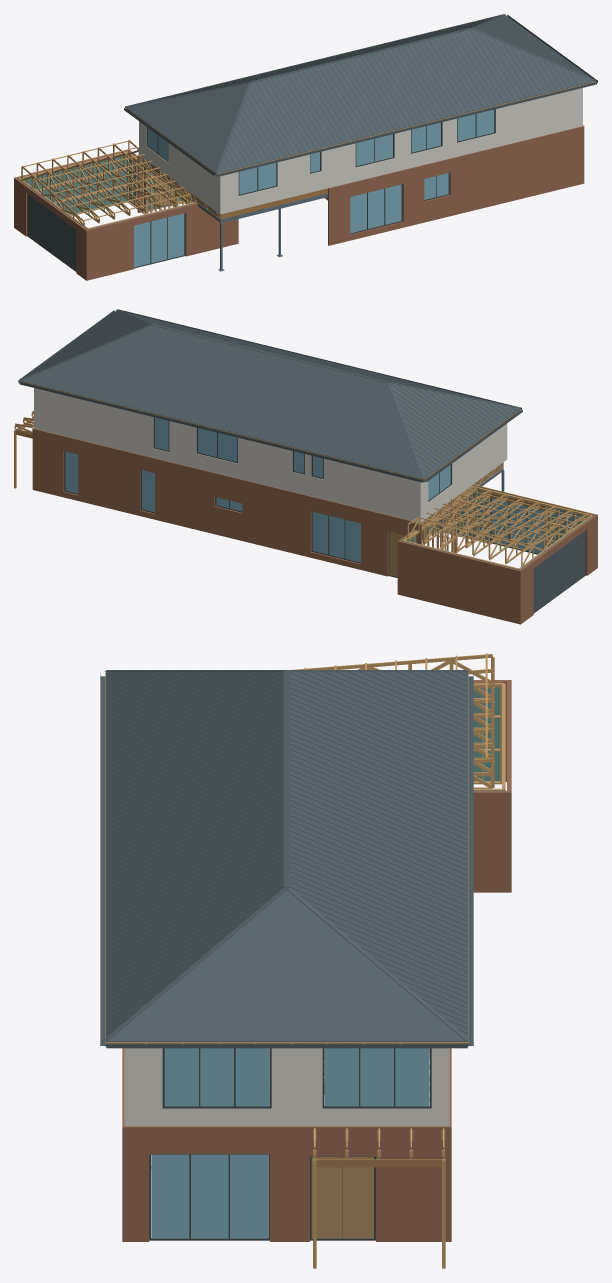
Rendered from building.glb.
3 renders of one model, top to bottom at view 1: azimuth 30°, elevation 25°; view 2: azimuth 150°, elevation 25°; view 3: azimuth 270°, elevation 25°, orthographic. The views are drawn at different scales.
Parts seen in each view (by area): view 1: 20 Main roof covering cut, 23 Ground brick veneer cut, 24 Upper foam render cut, 26 Windows and doors cut.001, 20 Main roof covering, 07 Garage roof, 23 Ground brick veneer, 24 Upper foam render, 25 Wall wrap, 02 Ground floor walls, 26 Windows and doors.003, 22 Fascia and gutters cut (+6 smaller); view 2: 20 Main roof covering, 23 Ground brick veneer, 24 Upper foam render, 07 Garage roof, 26 Windows and doors.002, 20 Main roof covering cut, 22 Fascia and gutters, 26 Windows and doors.003, 02 Ground floor walls, 26 Windows and doors, 26 Windows and doors cut.001, 25 Wall wrap cut (+3 smaller); view 3: 20 Main roof covering cut, 20 Main roof covering, 23 Ground brick veneer, 24 Upper foam render cut, 26 Windows and doors cut.001, 26 Windows and doors.002, 22 Fascia and gutters cut, 26 Windows and doors.001, 07 Garage roof, 22 Fascia and gutters, 26 Windows and doors, 26 Windows and doors cut (+5 smaller).
Part boxes in pixels (x1,y1,x2,y2): 20 Main roof covering cut: [216, 15, 595, 173]; 23 Ground brick veneer cut: [85, 126, 584, 280]; 24 Upper foam render cut: [219, 88, 582, 214]; 26 Windows and doors cut.001: [134, 109, 494, 267]; 20 Main roof covering: [126, 14, 505, 172]; 07 Garage roof: [21, 139, 191, 225]; 23 Ground brick veneer: [14, 125, 584, 280]; 24 Upper foam render: [139, 121, 221, 214]; 25 Wall wrap: [18, 151, 186, 229]; 02 Ground floor walls: [19, 151, 195, 228]; 26 Windows and doors.003: [27, 194, 76, 270]; 22 Fascia and gutters cut: [217, 14, 597, 176]; 20 Main roof covering: [20, 324, 519, 478]; 23 Ground brick veneer: [32, 428, 597, 624]; 24 Upper foam render: [34, 388, 505, 522]; 07 Garage roof: [407, 484, 588, 566]; 26 Windows and doors.002: [65, 417, 450, 562]; 20 Main roof covering cut: [25, 309, 520, 408]; 22 Fascia and gutters: [19, 380, 522, 482]; 26 Windows and doors.003: [533, 531, 585, 612]; 02 Ground floor walls: [402, 487, 592, 569]; 26 Windows and doors: [64, 417, 585, 613]; 26 Windows and doors cut.001: [491, 498, 544, 553]; 25 Wall wrap cut: [439, 490, 593, 546]; 20 Main roof covering cut: [104, 670, 467, 1040]; 20 Main roof covering: [283, 670, 469, 1040]; 23 Ground brick veneer: [122, 680, 511, 1241]; 24 Upper foam render cut: [124, 1048, 449, 1126]; 26 Windows and doors cut.001: [164, 1048, 429, 1106]; 26 Windows and doors.002: [151, 1154, 267, 1238]; 22 Fascia and gutters cut: [100, 672, 467, 1048]; 26 Windows and doors.001: [311, 1157, 373, 1238]; 07 Garage roof: [291, 653, 494, 788]; 22 Fascia and gutters: [106, 670, 473, 1046]; 26 Windows and doors: [149, 1154, 375, 1240]; 26 Windows and doors cut: [162, 1048, 431, 1108].
Size of the model in its own units: 28.23 by 8.04 by 10.21.
